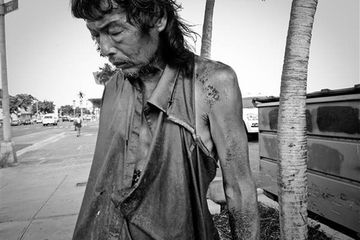gelandangan: (58, 1, 267, 240)
